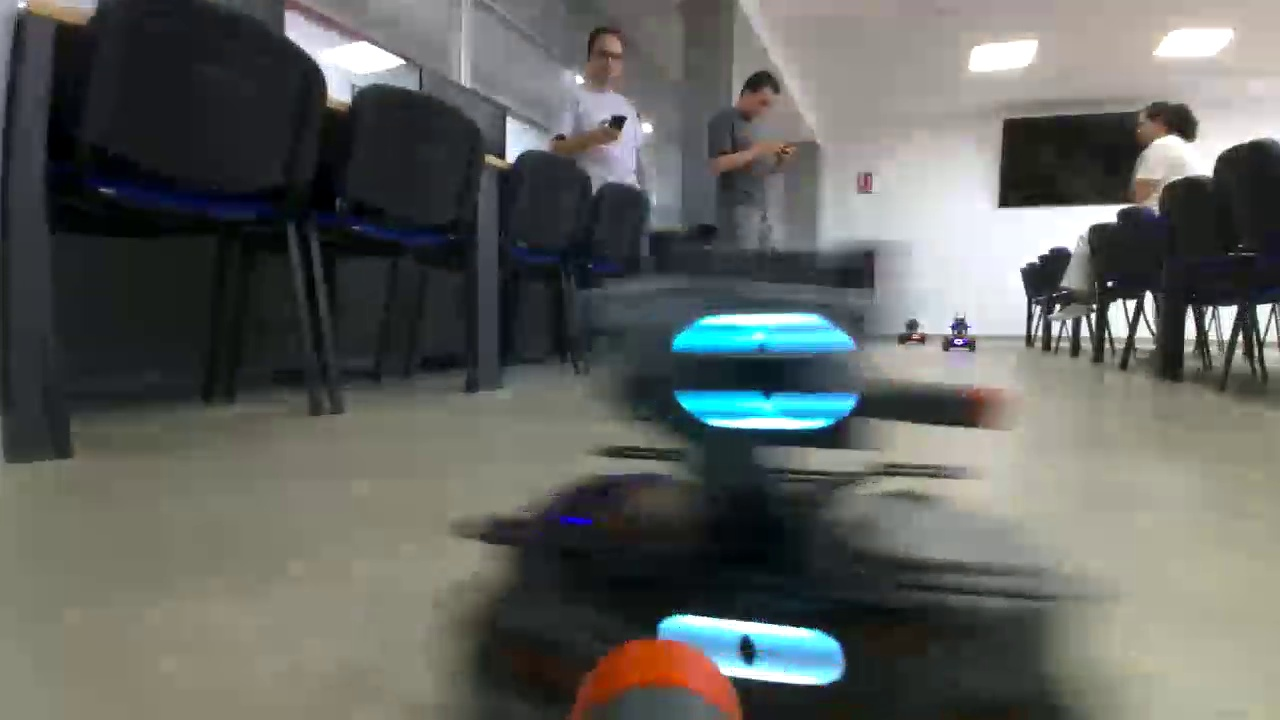robot: (450, 245, 1050, 720), (940, 312, 978, 352), (898, 315, 932, 345)
